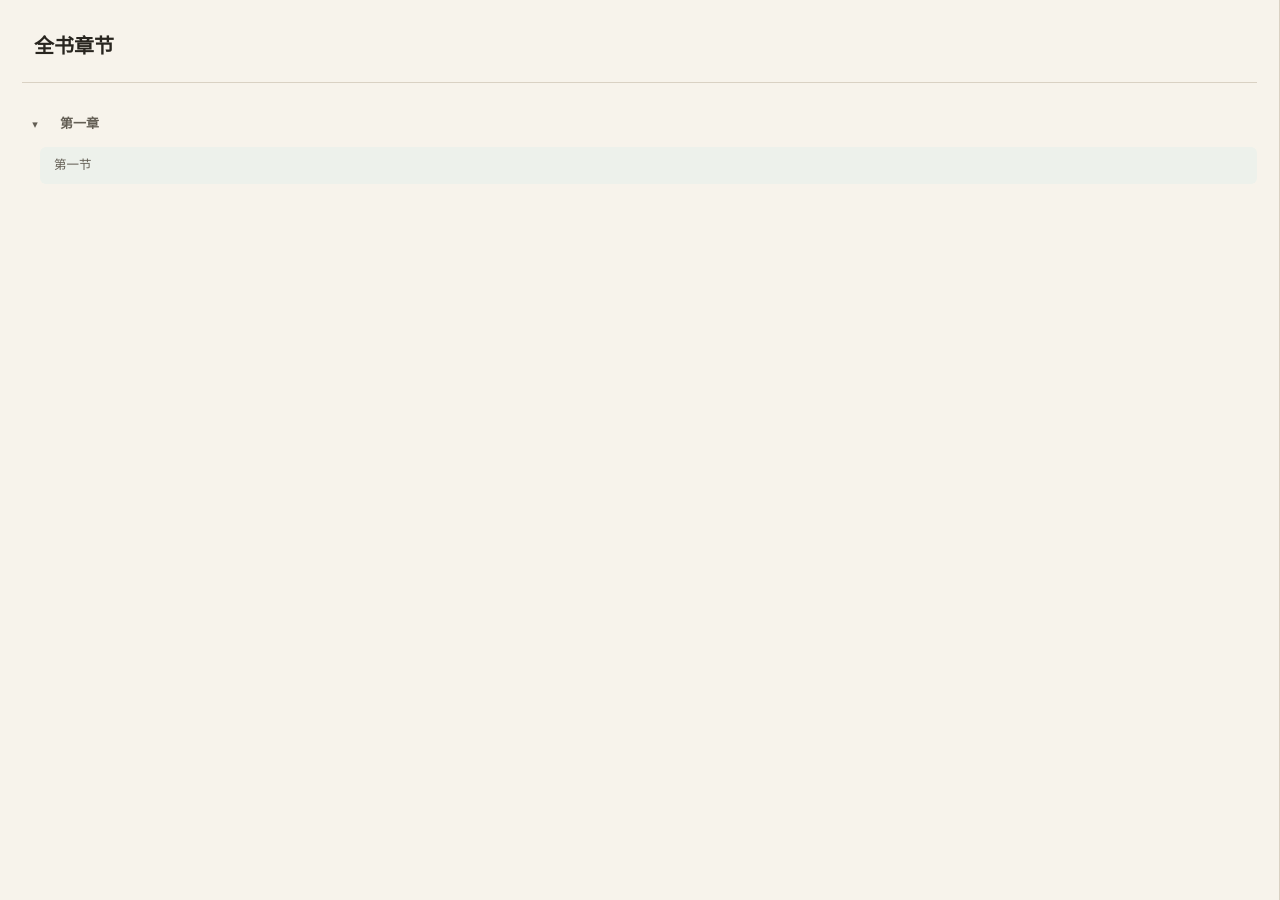
Test: ChapterSidebar › opens a branch when its active child changes and still lets the reader close it
Click the button named "收起本章小节".
click(35, 124)  # box left=22, top=105, right=48, bottom=143
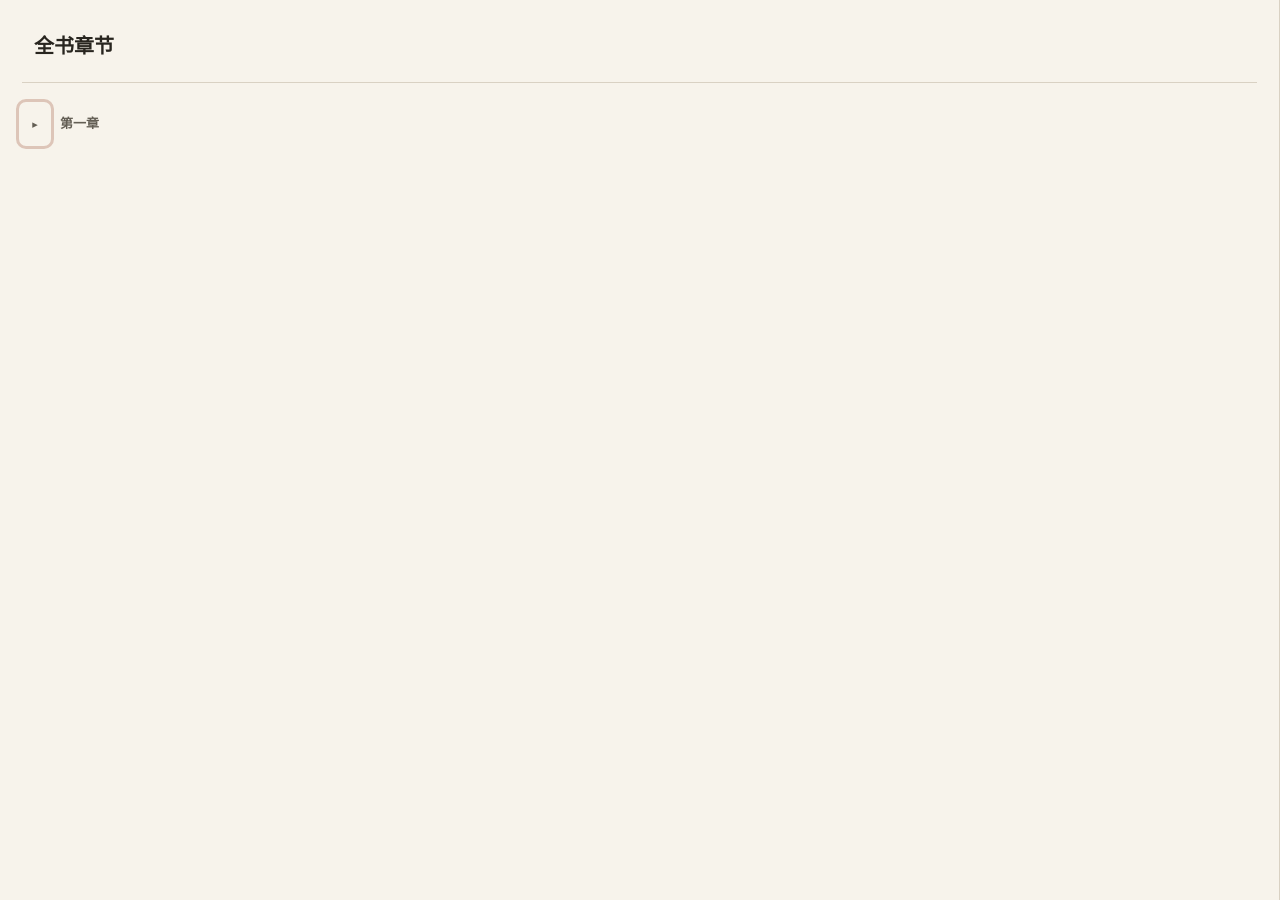
Result: the button named "收起本章小节" is collapsed at left=22, top=105, right=48, bottom=143
